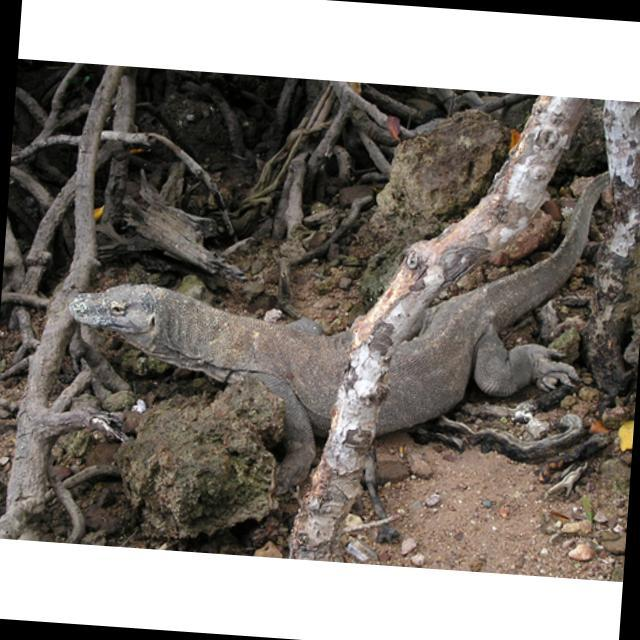KomodoDragon: (56, 125, 611, 521)
